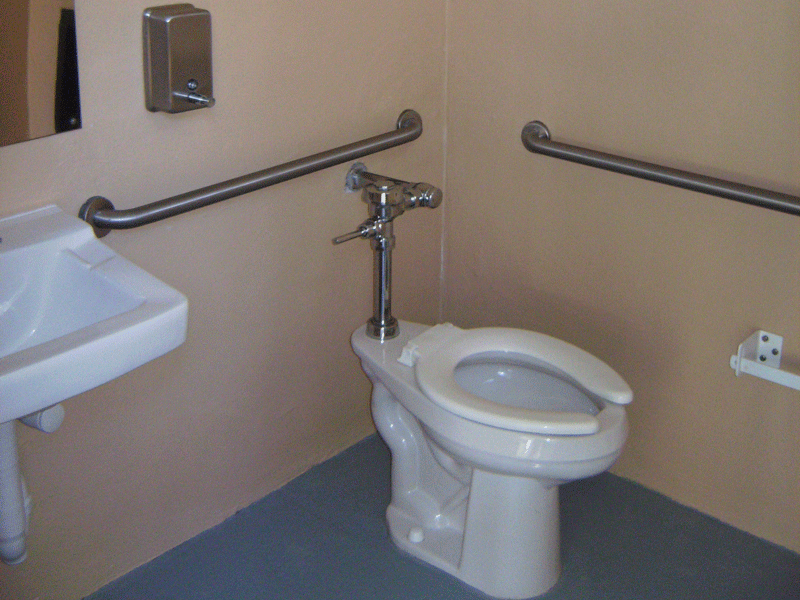dispenser: (131, 1, 223, 114)
restroom_assist_bar: (83, 106, 437, 240), (523, 118, 800, 239)
sink: (1, 201, 190, 567)
toilet: (349, 316, 634, 600)
toilet_handle: (331, 217, 388, 247)
